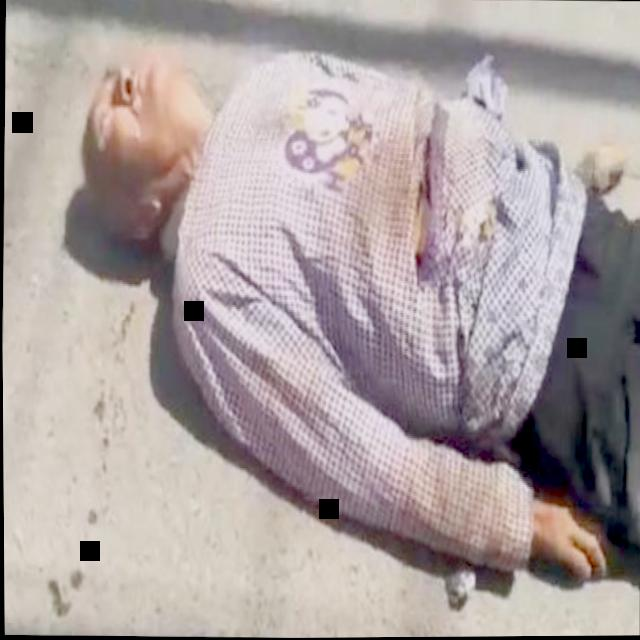Fall-Detected: (47, 3, 640, 633)
